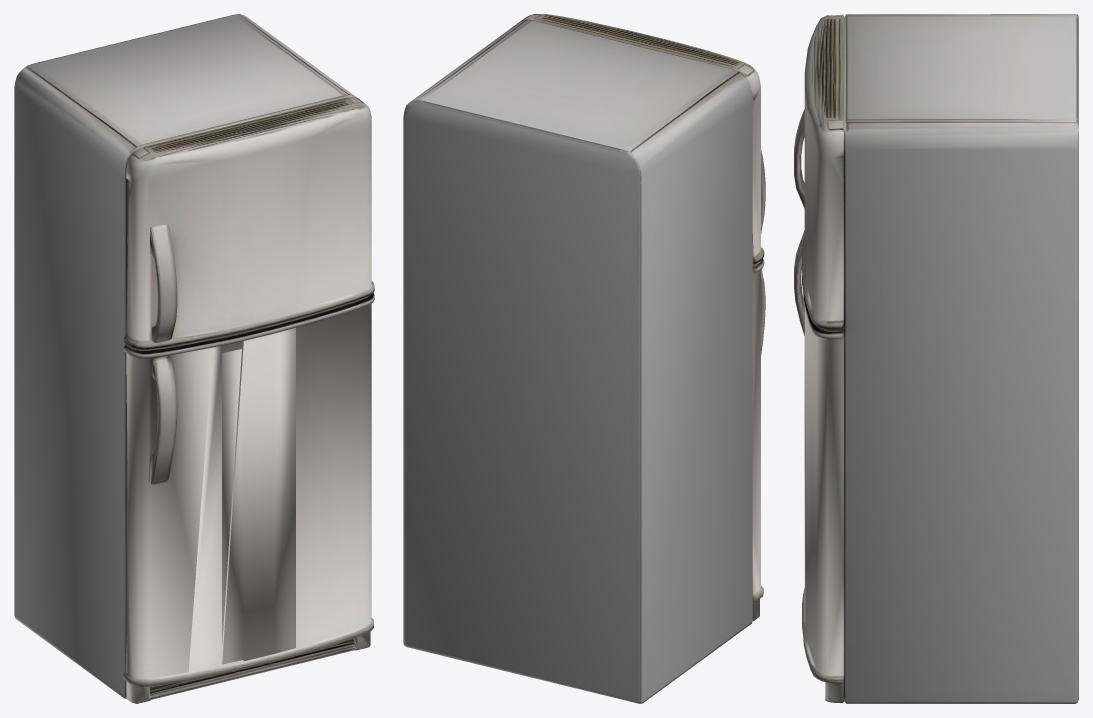
File: a_refrigerator_07685752_v1.glb
3 views of the same model, side by side, from view 1: azimuth 30°, elevation 25°; view 2: azimuth 150°, elevation 25°; view 3: azimuth 270°, elevation 25° (orthographic). The views are drawn at different scales.
Parts seen in each view (by area): view 1: material; view 2: material; view 3: material.
Part boxes in pixels (<box>): material: <box>14,14,374,703</box>; material: <box>403,14,765,703</box>; material: <box>794,14,1078,703</box>.
Size of the model in its own units: 0.8786 by 1.9 by 0.8511.
Materials: 1 (1 with a texture image).
